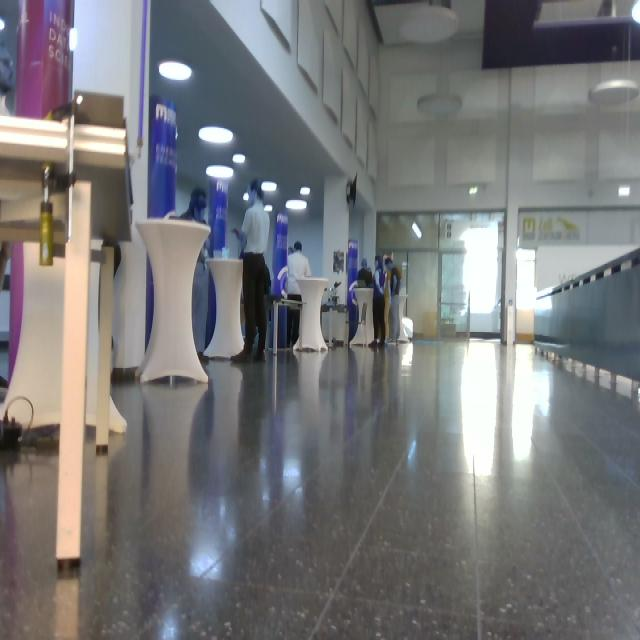door: (407, 249, 439, 340)
light bulb: (399, 2, 460, 45), (589, 78, 640, 108), (417, 93, 462, 117), (159, 60, 193, 82), (199, 126, 234, 144), (206, 165, 234, 180), (69, 28, 78, 52), (286, 200, 307, 210), (631, 1, 640, 24), (261, 181, 277, 192), (412, 223, 422, 239), (233, 153, 246, 164), (300, 186, 311, 196), (243, 192, 250, 201), (264, 205, 273, 212)
person: (231, 179, 271, 363), (287, 241, 312, 349), (369, 256, 389, 346)
staircase: (1, 91, 133, 567)
tiled floor: (2, 336, 639, 638)
